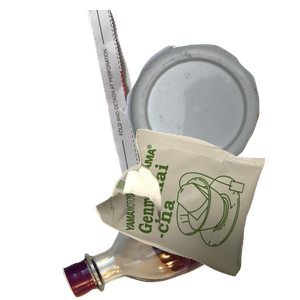glass: (60, 180, 300, 300)
paper: (85, 10, 224, 190)
plastic: (124, 42, 300, 210)
trash: (93, 126, 300, 300)
